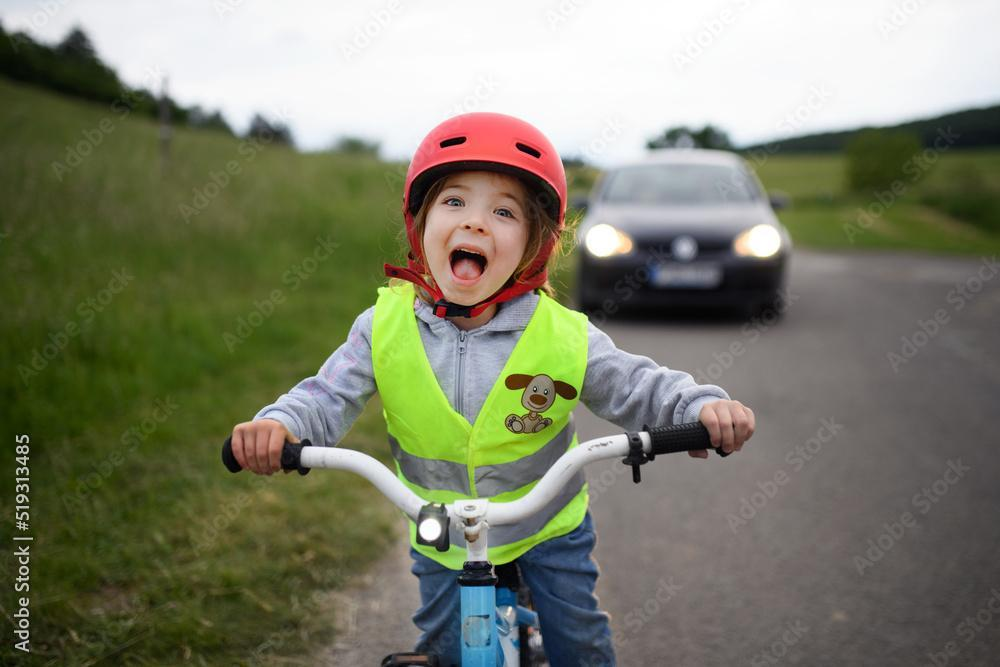Vest: (378, 281, 586, 543)
